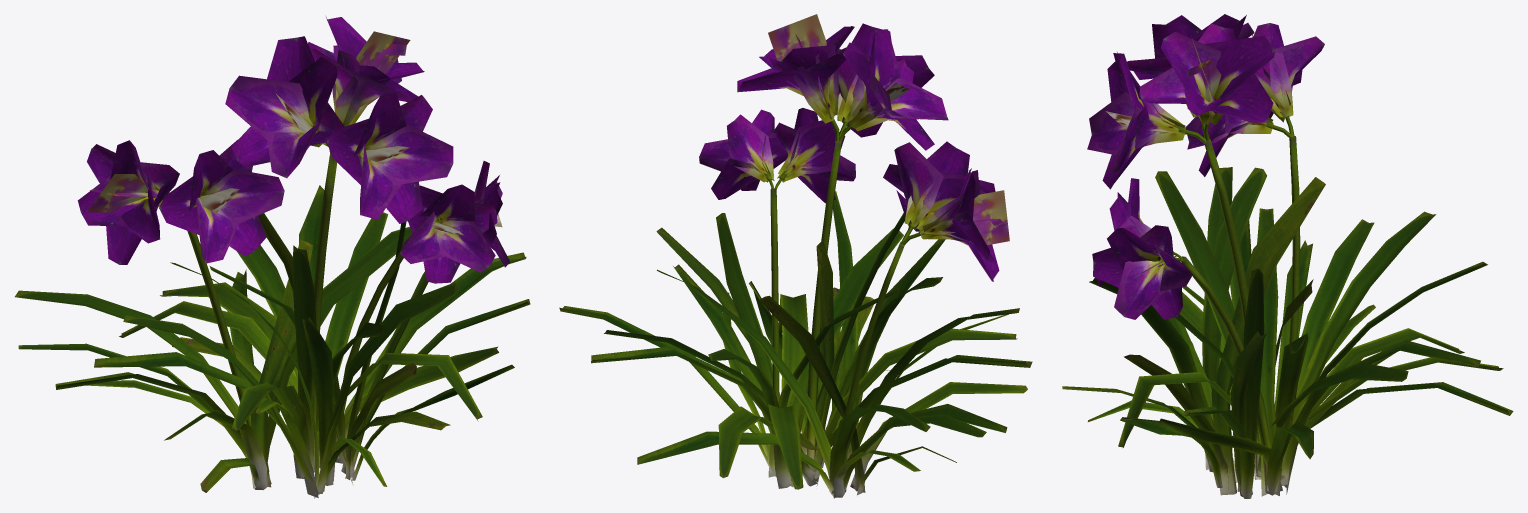
The model's file is Amaryllis_bush_normal_purple.glb.
3 views of the same model, side by side, from view 1: azimuth 30°, elevation 25°; view 2: azimuth 150°, elevation 25°; view 3: azimuth 270°, elevation 25° (orthographic). The views are drawn at different scales.
Visible parts, largest first — view 1: bush; view 2: bush; view 3: bush.
Part boxes in pixels (x1,y1,x2,y2): bush: (15,17,530,498); bush: (559,14,1032,498); bush: (1062,14,1513,498).
Bounding box in the file's own units: 2.94 × 2.74 × 2.41.
Materials: 1 (1 with a texture image).
